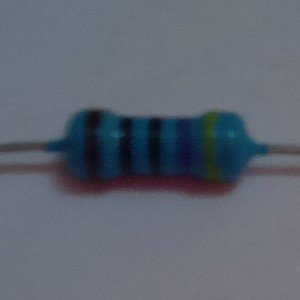black_band: (145, 117, 163, 178), (118, 115, 134, 179)
brown_band: (83, 106, 103, 183)
violet_band: (173, 116, 193, 178)
yellow_band: (202, 109, 221, 184)
